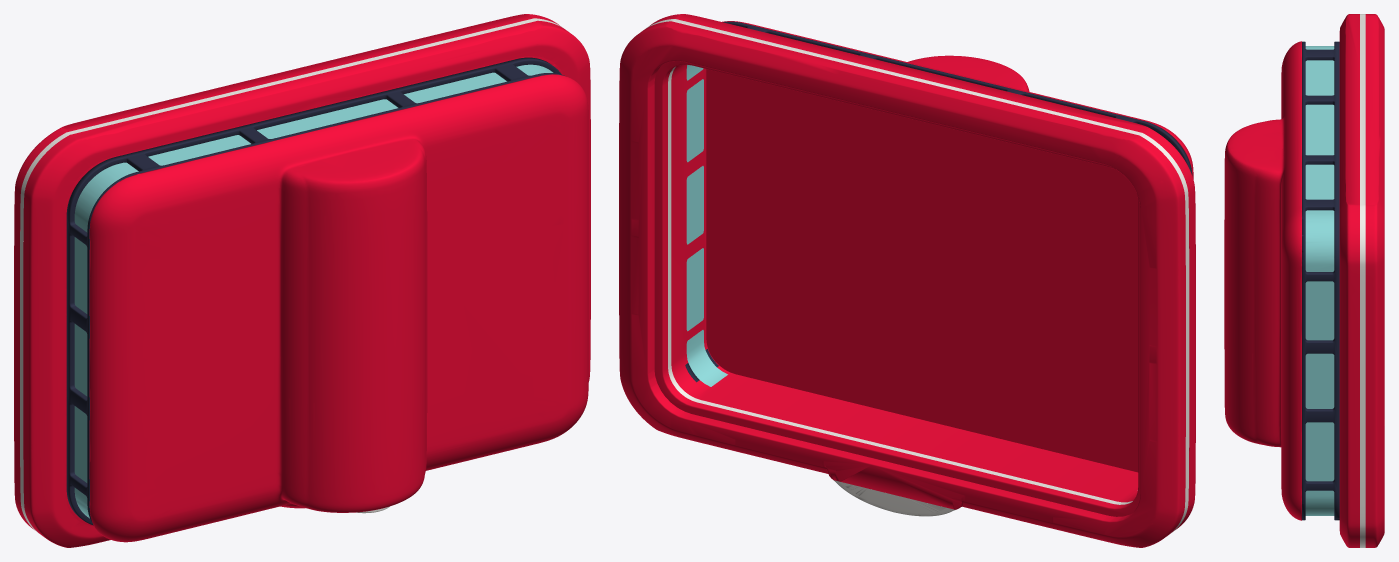
Rendered from PCR.glb.
The picture shows the model from 3 angles, left to right: view 1: azimuth 30°, elevation 25°; view 2: azimuth 150°, elevation 25°; view 3: azimuth 270°, elevation 25°; orthographic projection. The views are drawn at different scales.
Visible parts, largest first — view 1: PCR_red, PCR_dark, PCR_cyan, PCR_white; view 2: PCR_red, PCR_white, PCR_cyan, PCR_dark; view 3: PCR_red, PCR_cyan, PCR_dark, PCR_white.
Part boxes in pixels (x1=…): PCR_red: x1=14, y1=14, x2=590, y2=547; PCR_dark: x1=66, y1=57, x2=564, y2=525; PCR_cyan: x1=74, y1=64, x2=553, y2=518; PCR_white: x1=20, y1=18, x2=562, y2=532; PCR_red: x1=619, y1=14, x2=1195, y2=547; PCR_white: x1=646, y1=19, x2=1189, y2=532; PCR_cyan: x1=686, y1=65, x2=1137, y2=490; PCR_dark: x1=685, y1=21, x2=1192, y2=382; PCR_red: x1=1224, y1=14, x2=1384, y2=547; PCR_cyan: x1=1305, y1=46, x2=1334, y2=515; PCR_dark: x1=1302, y1=41, x2=1339, y2=520; PCR_white: x1=1360, y1=14, x2=1365, y2=547.
Size of the model in its own units: 286 by 208 by 84.86.
